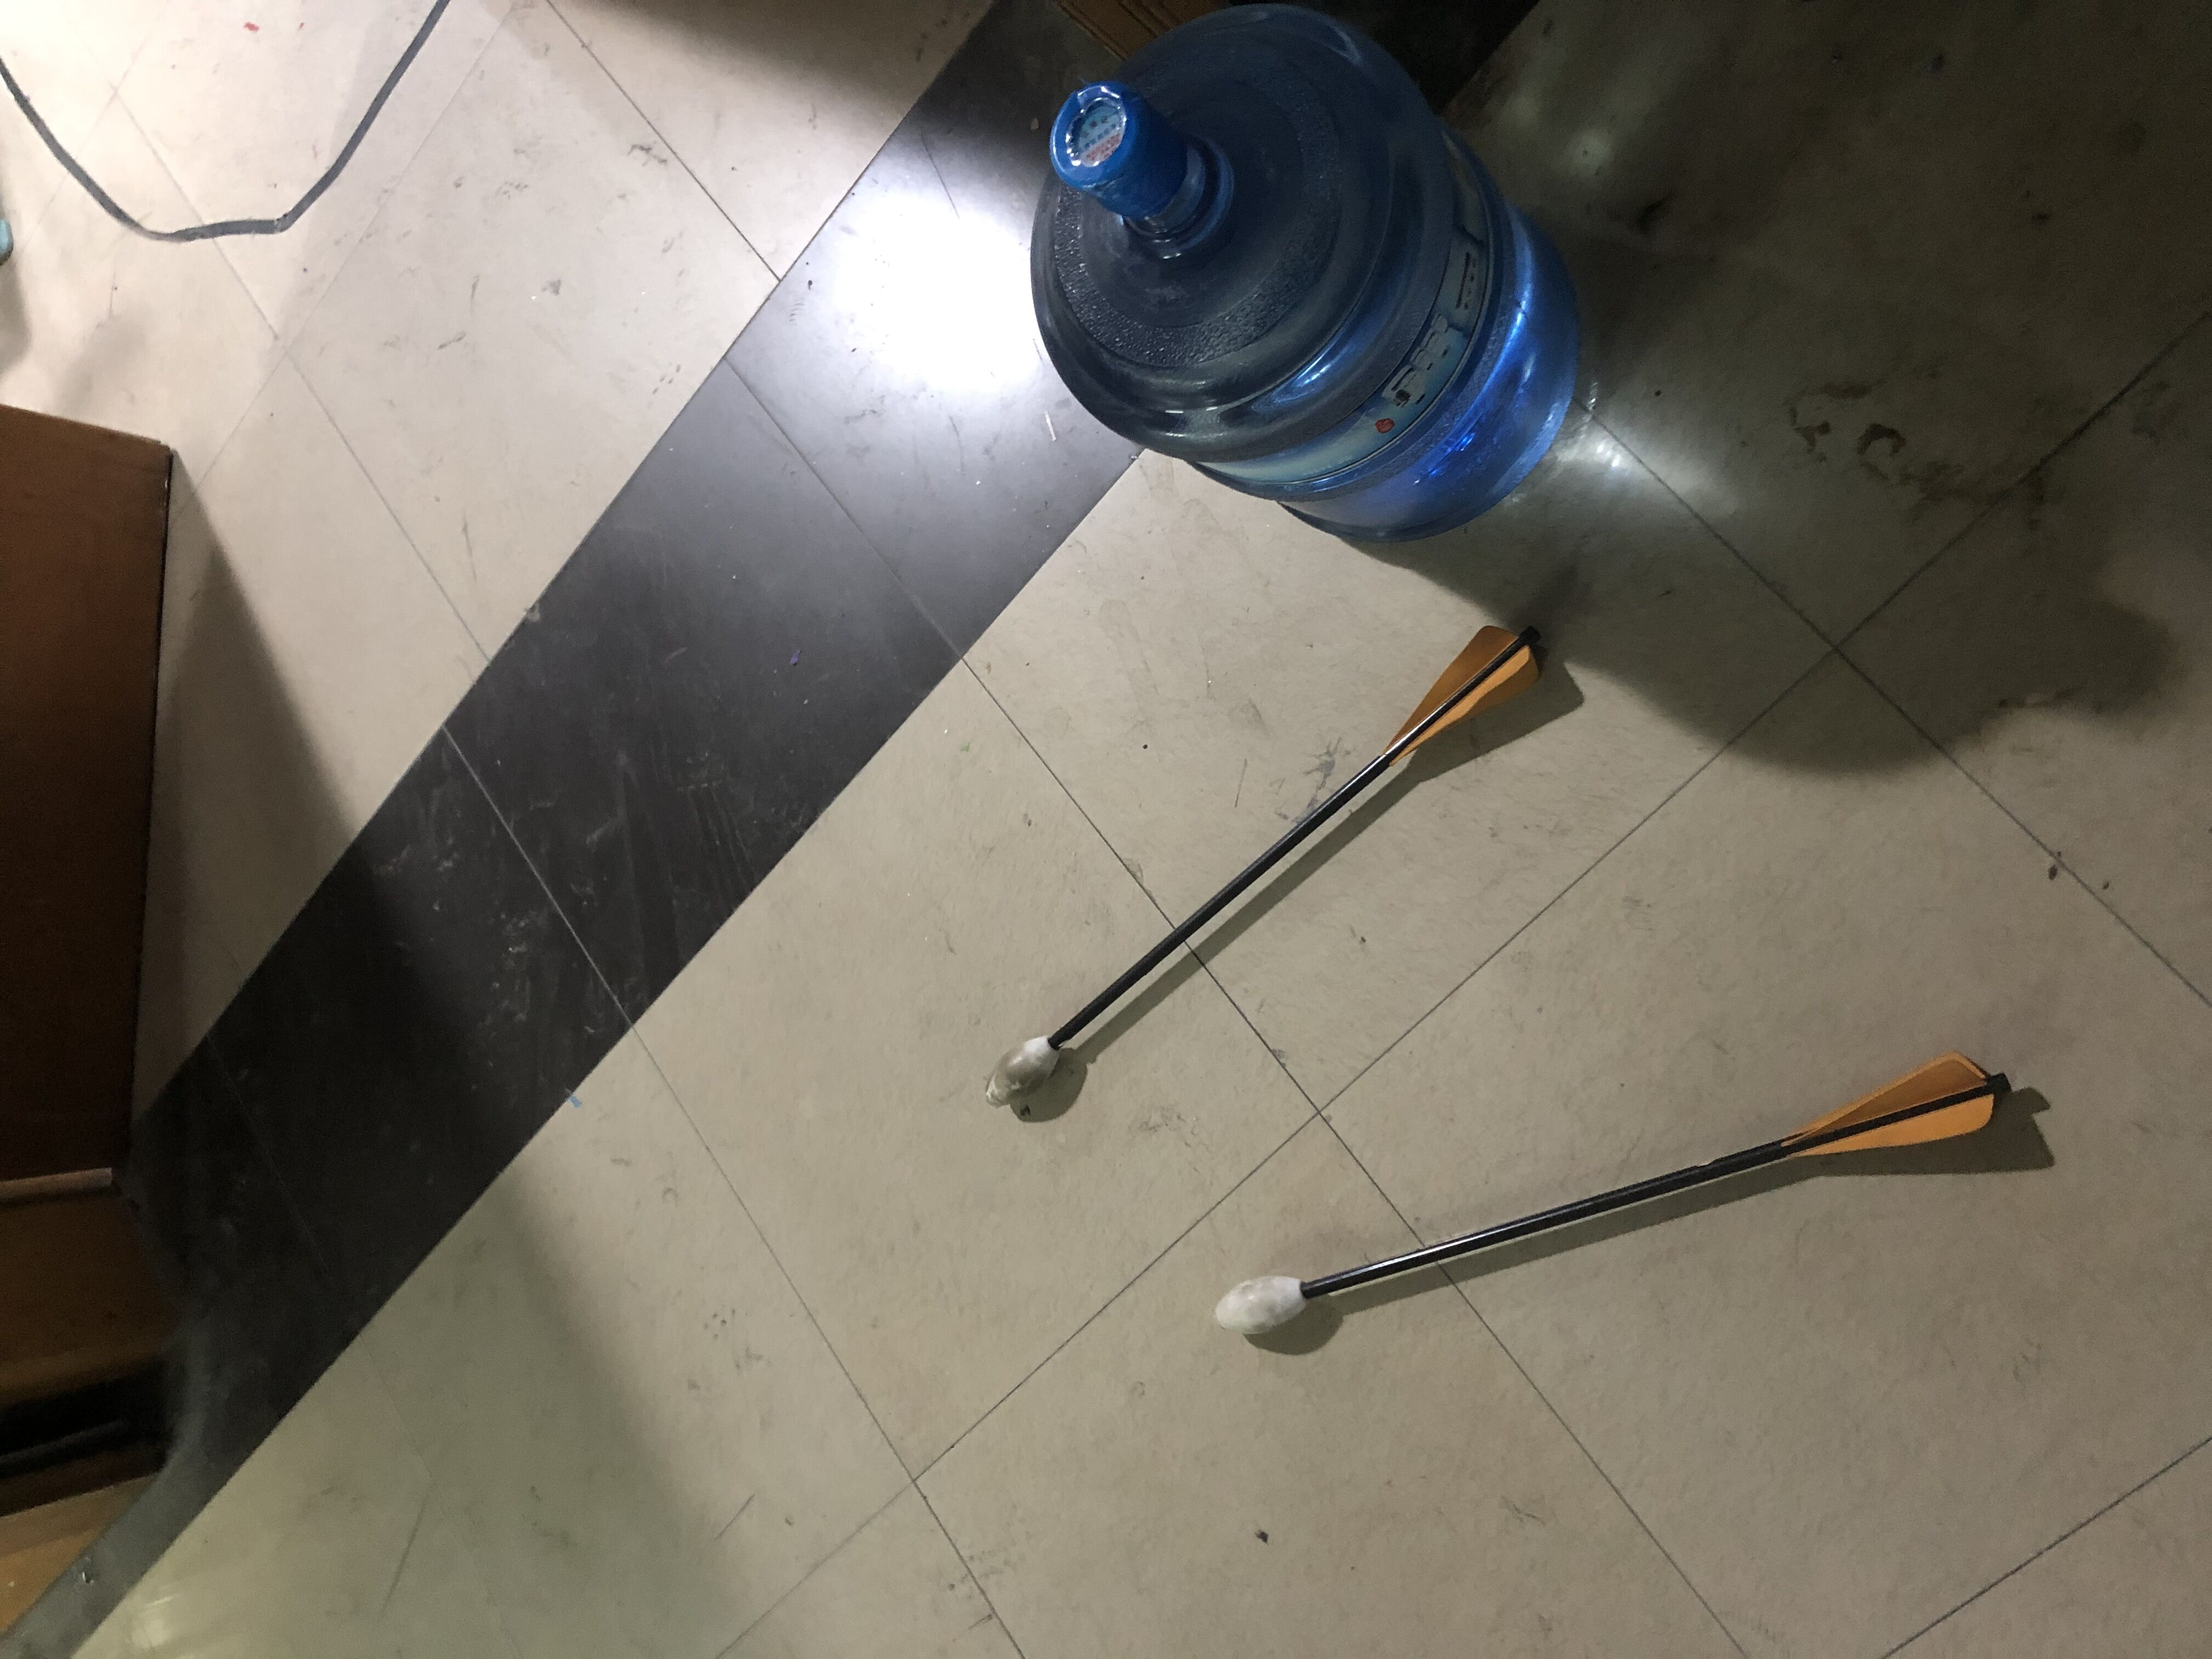arrow: (982, 626, 1545, 1108), (1216, 1053, 2015, 1338)
arrowFront: (979, 1030, 1066, 1108), (1214, 1270, 1312, 1340)
